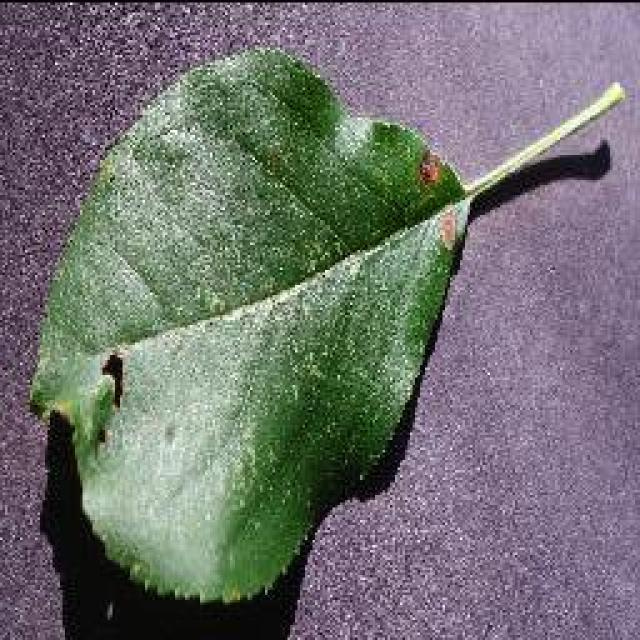Black_rot: (25, 45, 625, 605)
